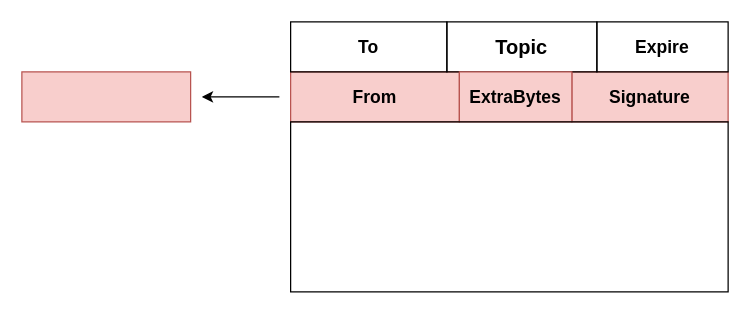
Image size: 750x314. Some labels were removed from this diagram. Here are the shapes that lost their labels. From the top down, the centre of each, then its label:
[106,96]: Asym encryption
[508,206]: Message Payload
